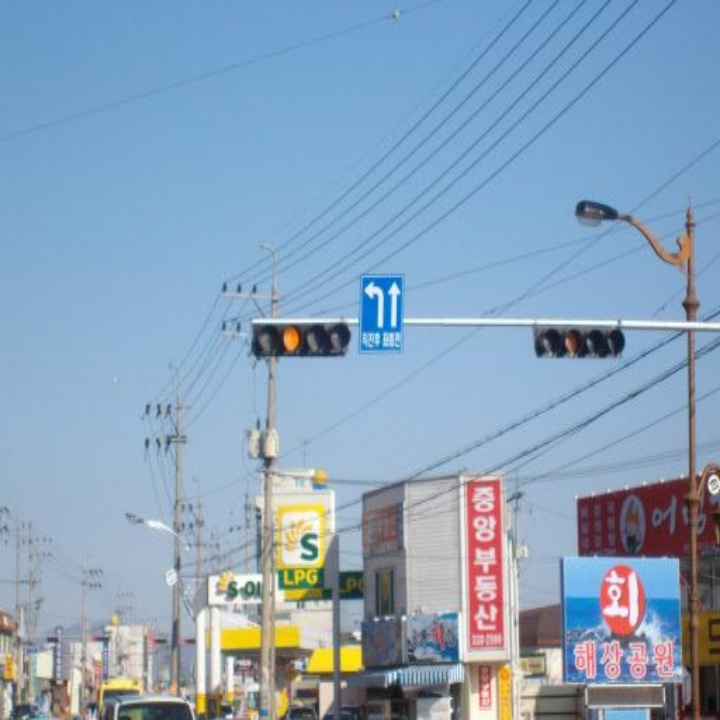left: (362, 280, 388, 331)
